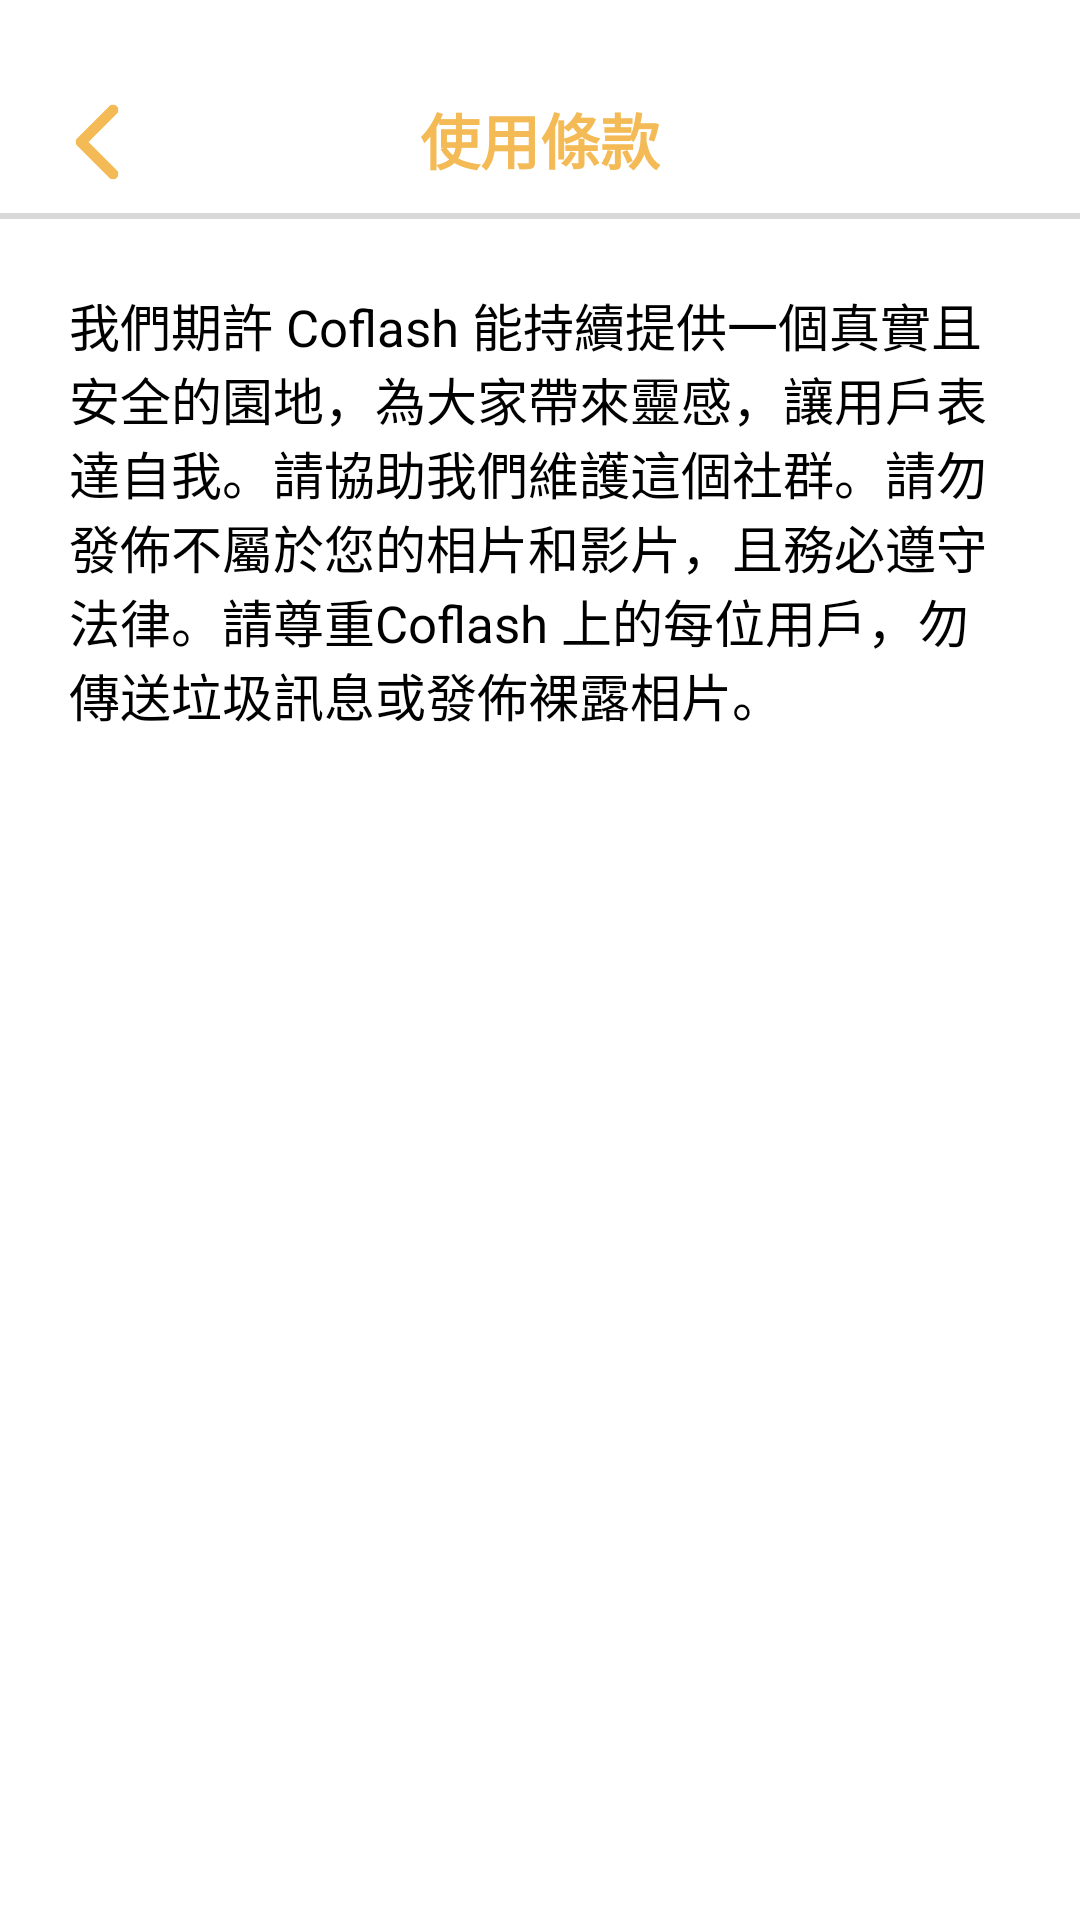

Screen size 1080px×1920px. Icon name, then its center in pixels as (x=x, y=y):
back: (x=97, y=142)
